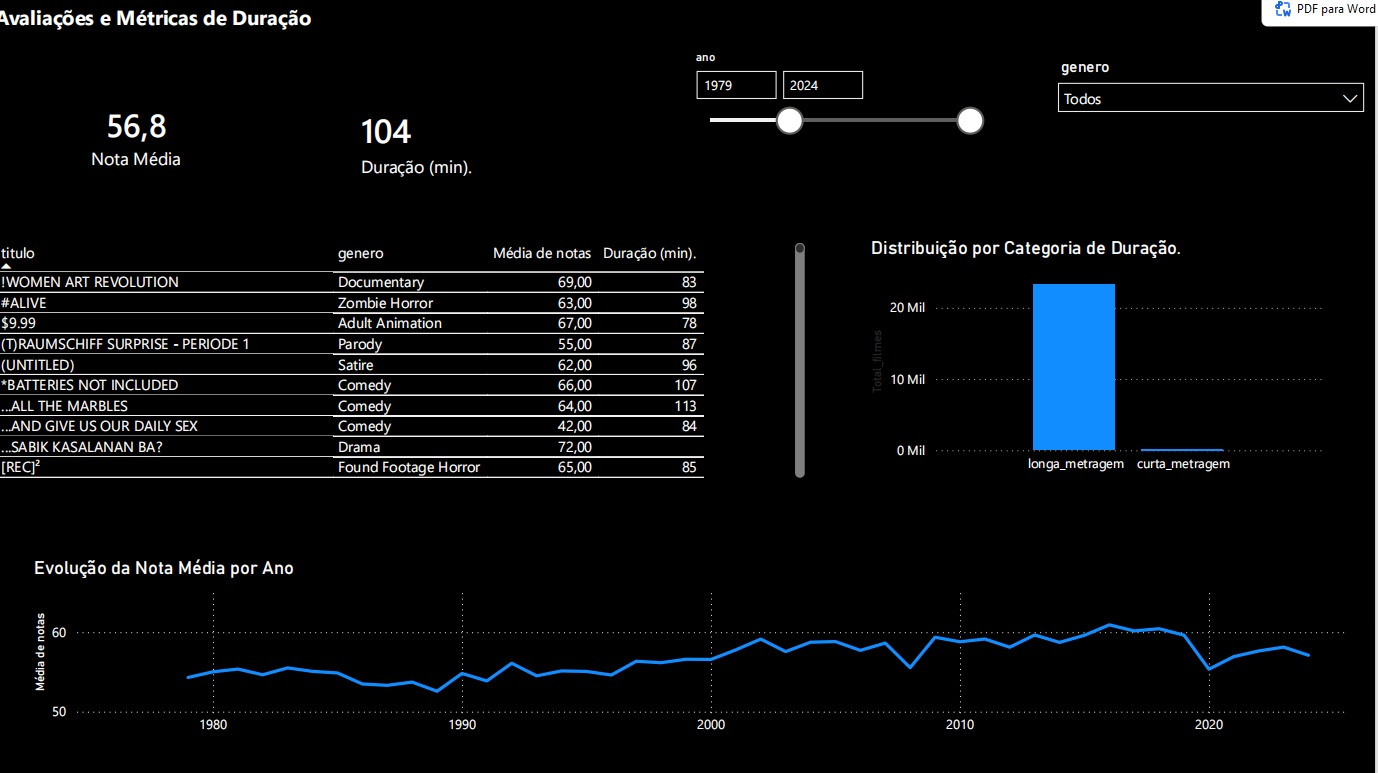

The dashboard page shown, as its layout file describes it:
{"tool":"powerbi","page":{"name":"ANÁLISE DE DURAÇÃO.","canvas":[1280,720],"ordinal":1},"visuals":[{"type":"textbox","box":[0,0,1259.6,103.1],"z":0},{"type":"cardVisual","fields":{"Data":["filmes.Nota Média IMDB"]},"box":[27.2,42.8,215.9,165.3],"z":1000},{"type":"cardVisual","fields":{"Data":["filmes.Duração Média (Min)"]},"box":[313.2,57.4,209,150],"z":2000},{"type":"slicer","fields":{"Values":["filmes.ano"]},"box":[640,42.8,286.9,126.4],"z":3000},{"type":"slicer","fields":{"Values":["filmes.genero"]},"box":[976.5,49.6,303.5,111.9],"z":4000},{"type":"lineStackedColumnComboChart","title":"Distribuição por Categoria de Duração.","fields":{"Category":["filmes.classificacao_curta_metragem"],"Y":["filmes.Total_filmes"]},"box":[810.2,219.8,428,227.6],"z":5000},{"type":"tableEx","fields":{"Values":["filmes.titulo","filmes.genero","Avg(filmes.nota)","filmes.Duração (min)."]},"box":[0,220.8,757.7,226.6],"z":6000},{"type":"lineChart","title":"Evolução da Nota Média por Ano","fields":{"Category":["filmes.ano"],"Y":["Avg(filmes.notas)"]},"box":[36,516.5,1223.6,173.1],"z":6001}]}

Visuals, with their boxes in screenshot pixels (x1, y1, x2, y2), scaled from the page's 1280x720 canvas onto the 1378x773 screenshot:
textbox: {"left": 0, "top": 0, "right": 1356, "bottom": 111}
cardVisual - filmes.Nota Média IMDB: {"left": 29, "top": 46, "right": 262, "bottom": 223}
cardVisual - filmes.Duração Média (Min): {"left": 337, "top": 62, "right": 562, "bottom": 223}
slicer - filmes.ano: {"left": 689, "top": 46, "right": 998, "bottom": 182}
slicer - filmes.genero: {"left": 1051, "top": 53, "right": 1377, "bottom": 173}
"Distribuição por Categoria de Duração." lineStackedColumnComboChart: {"left": 872, "top": 236, "right": 1333, "bottom": 480}
tableEx - filmes.titulo x filmes.genero: {"left": 0, "top": 237, "right": 816, "bottom": 480}
"Evolução da Nota Média por Ano" lineChart: {"left": 39, "top": 555, "right": 1356, "bottom": 740}
